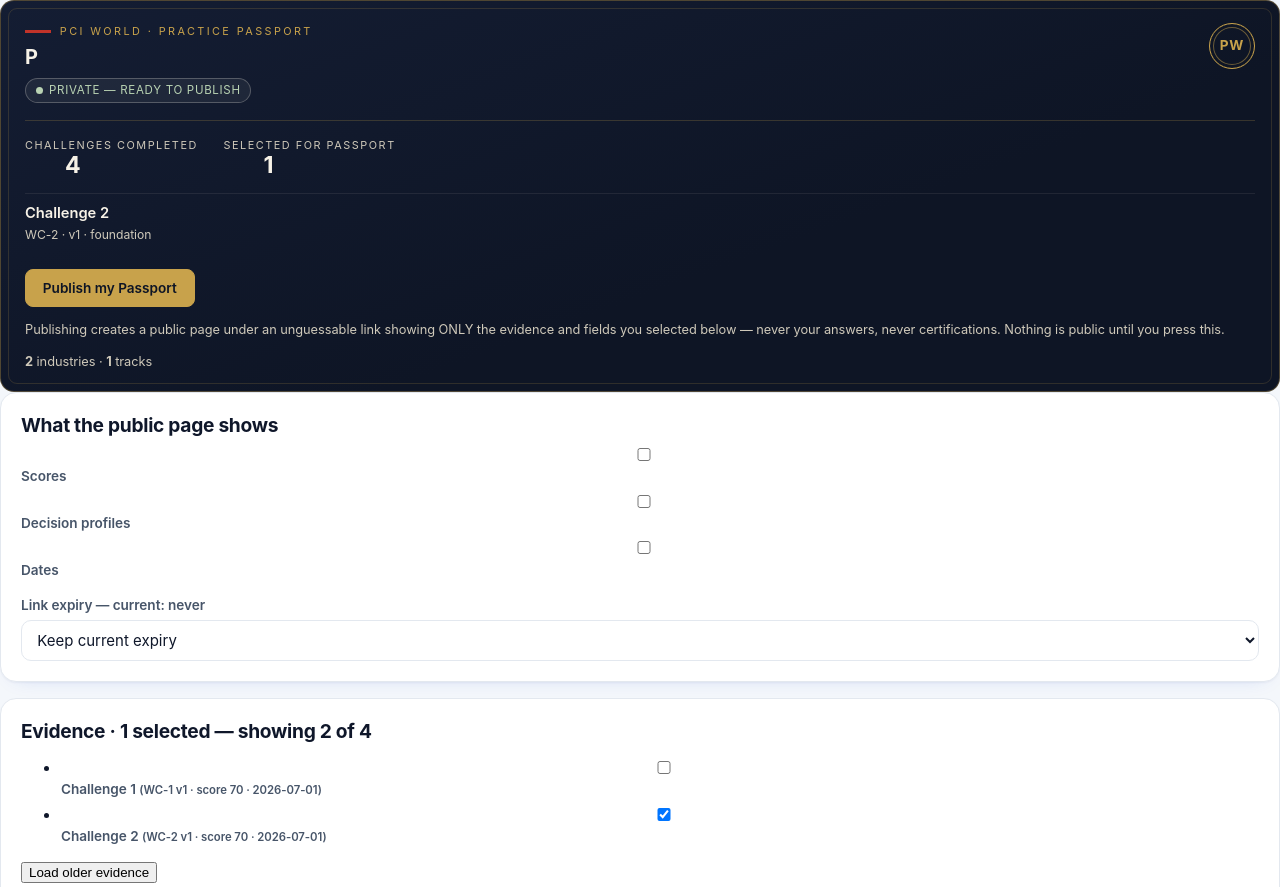
Test: World Passport manager › Load older appends the next window without double counting
Check: the heading "Evidence · 1 selected — showing 2 of 4" is shown, box [21,719,372,743]
Click the button "Load older evidence" at x=89, y=873, box [21,862,157,883]
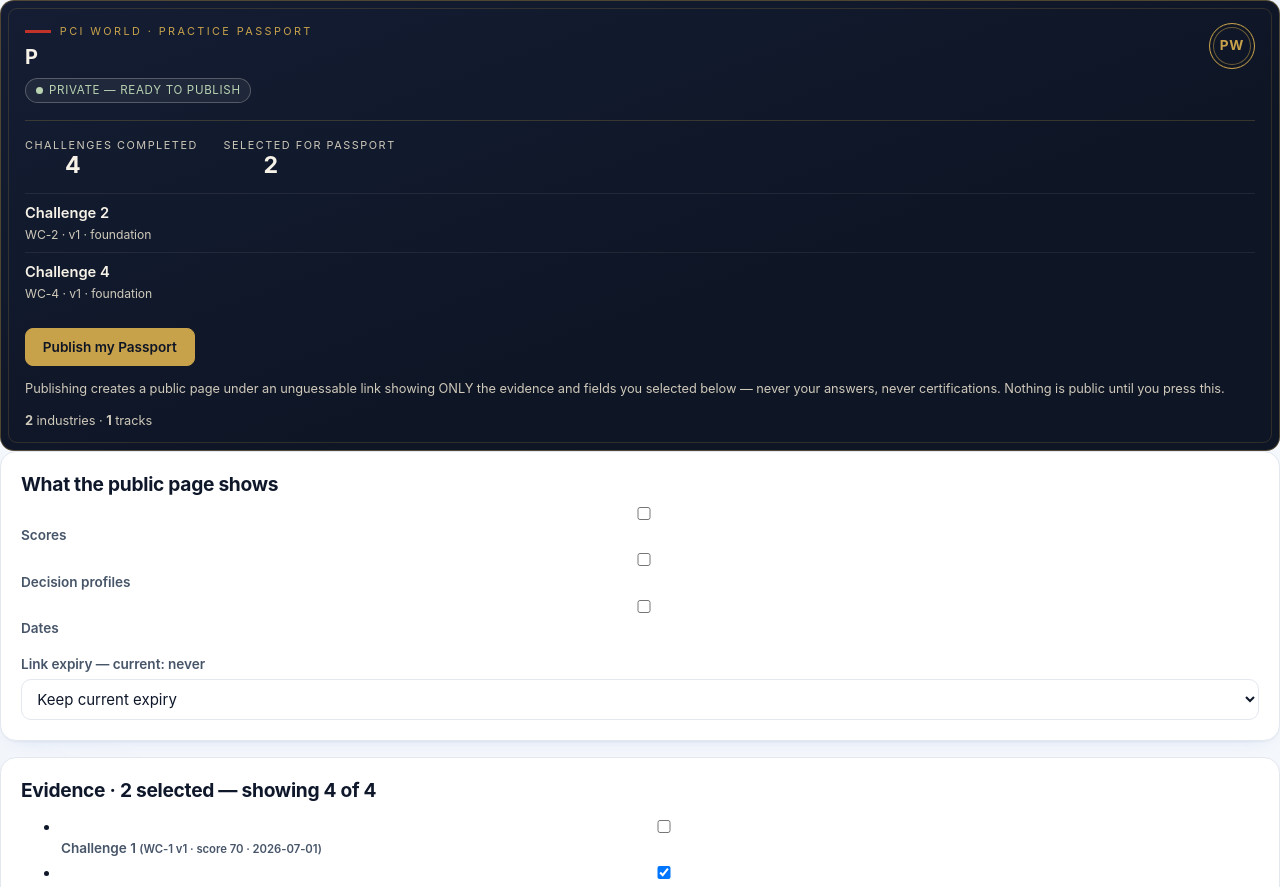
Check: the heading "Evidence · 2 selected — showing 4 of 4" is shown, box [21,778,376,802]
Check: the text "Challenge 1 (WC-1 v1 · score 70 · 2026-07-01)" is shown 4 times
Check: the button "Load older evidence" is gone
